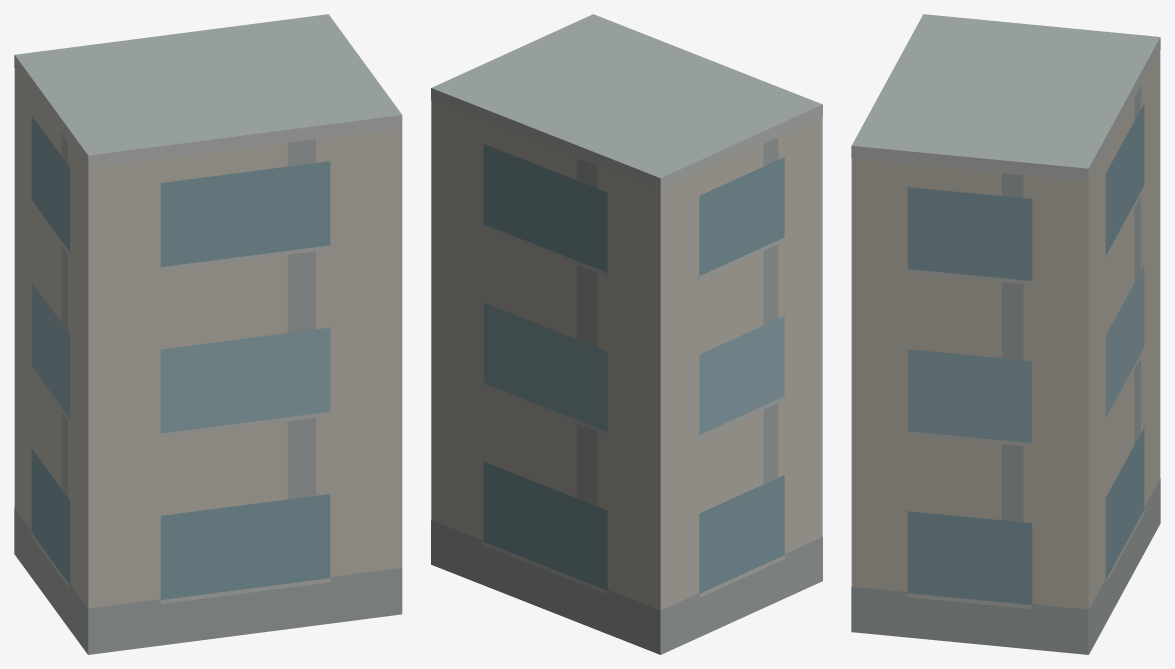
The model's file is survey-upis-32744921.glb.
The picture shows the model from 3 angles, left to right: view 1: azimuth 30°, elevation 25°; view 2: azimuth 150°, elevation 25°; view 3: azimuth 270°, elevation 25°; orthographic projection. The views are drawn at different scales.
Parts seen in each view (by area): view 1: survey-upis-32744921.tmp; view 2: survey-upis-32744921.tmp; view 3: survey-upis-32744921.tmp.
Boxes of the visible parts, x1=… form: survey-upis-32744921.tmp: x1=14, y1=14, x2=402, y2=654; survey-upis-32744921.tmp: x1=431, y1=14, x2=822, y2=654; survey-upis-32744921.tmp: x1=851, y1=14, x2=1160, y2=654.
Size of the model in its own units: 6.25 by 9.15 by 5.28.
